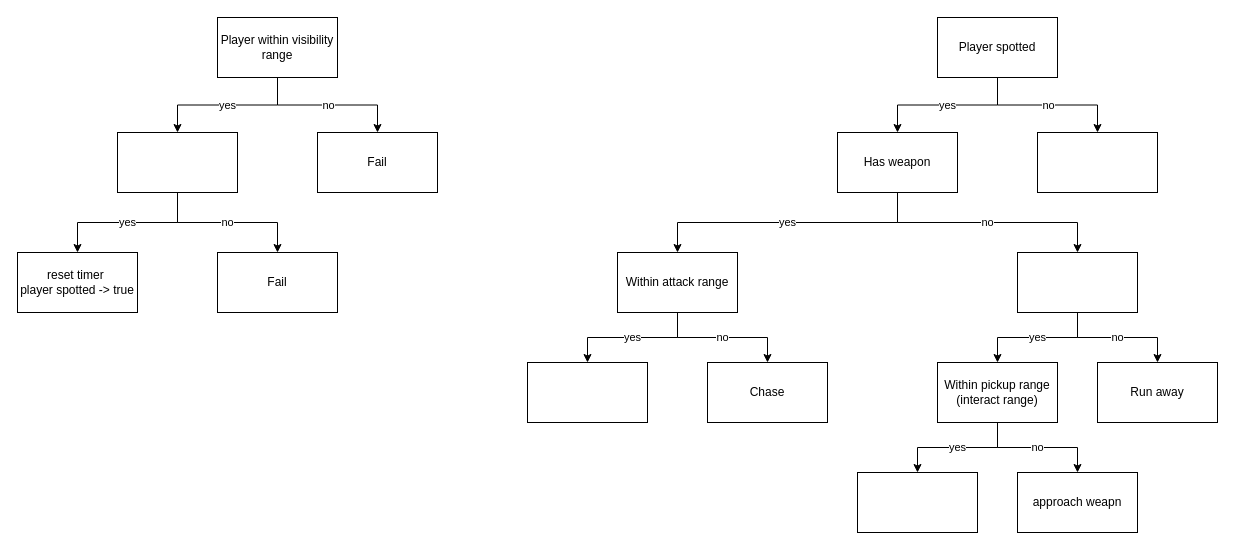
The diagram is 1235 pixels wide and 550 high, and some of its shapes have lost their labels. The centre of each missing label's shape, as x and y in pixels:
"Attack" belongs at [587,392].
"Find weapon" belongs at [1077,282].
"Patrol" belongs at [1097,162].
"Pick up weapn" belongs at [917,502].
"Player visible (raycast)" belongs at [177,162].
